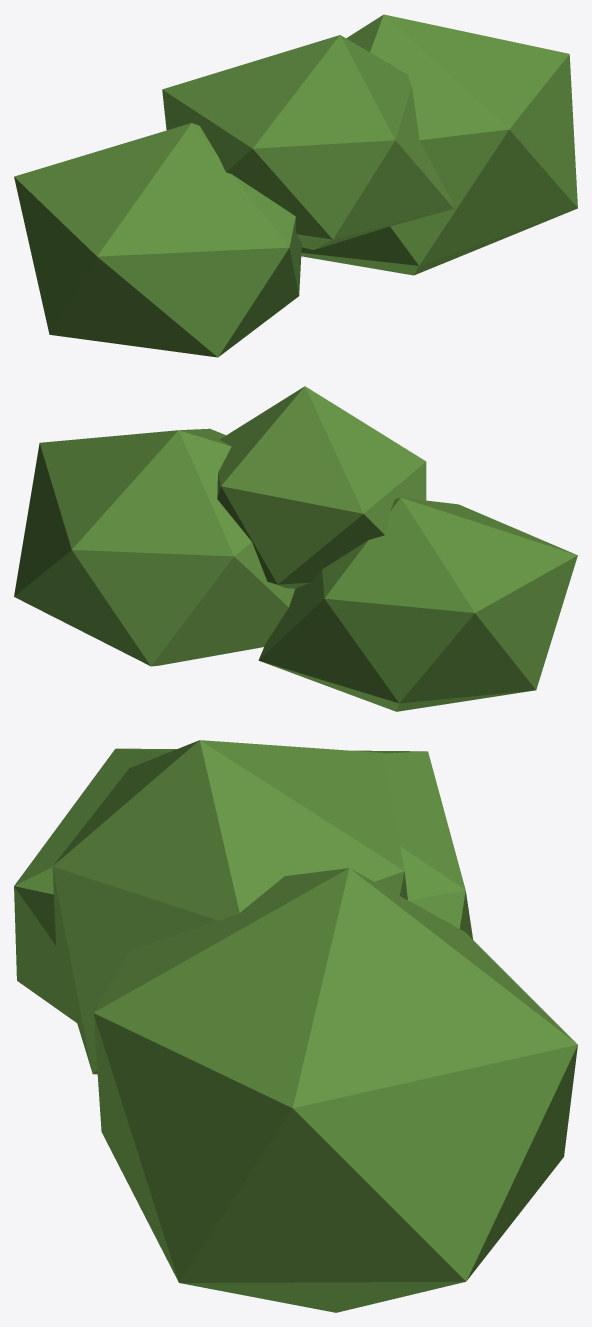
Rendered from Cali_2.fbx.
The picture shows the model from 3 angles, top to bottom: view 1: azimuth 30°, elevation 25°; view 2: azimuth 150°, elevation 25°; view 3: azimuth 270°, elevation 25°; orthographic projection. The views are drawn at different scales.
Parts seen in each view (by area): view 1: Cali_2; view 2: Cali_2; view 3: Cali_2.
Part boxes in pixels (x1,y1,x2,y2): Cali_2: (14,14,577,357); Cali_2: (14,386,577,711); Cali_2: (14,740,577,1312).
Size of the model in its own units: 1.84 by 0.9973 by 1.06.
